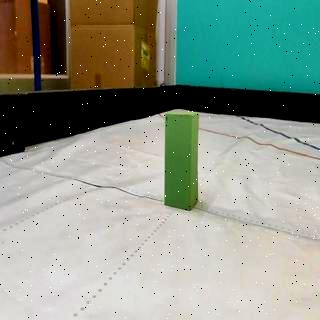greenbox: (163, 108, 200, 211)
